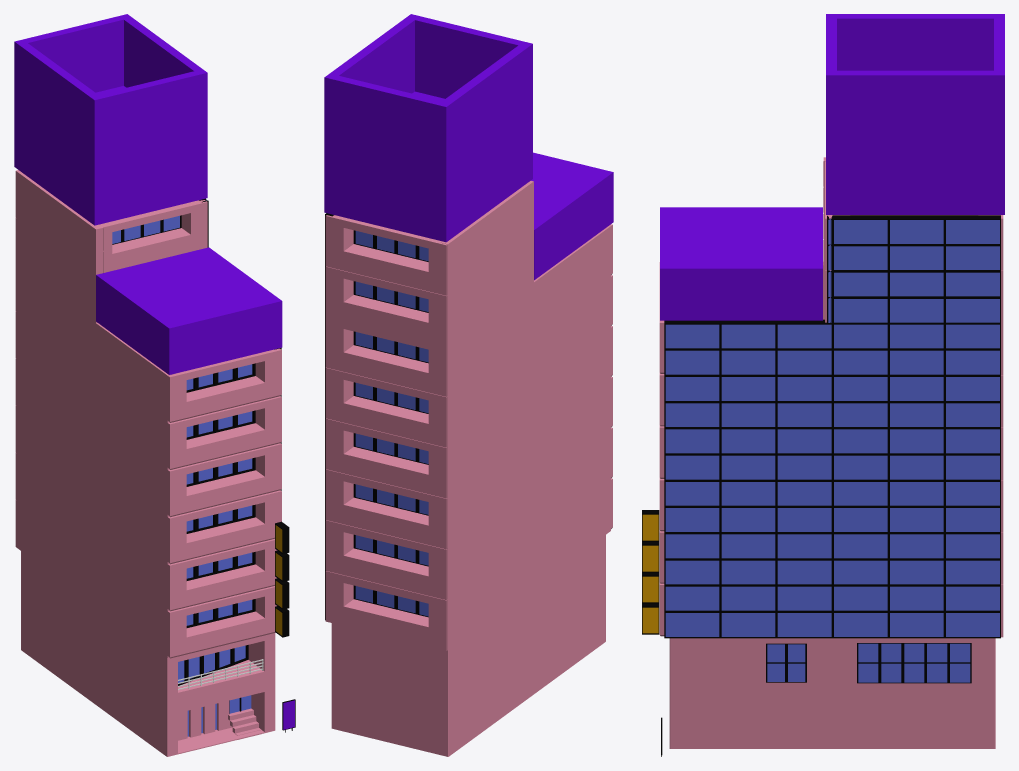
Rendered from sundai_yokonobil2.fbx.
The picture shows the model from 3 angles, left to right: view 1: azimuth 30°, elevation 25°; view 2: azimuth 150°, elevation 25°; view 3: azimuth 270°, elevation 25°; orthographic projection. The views are drawn at different scales.
Visible parts, largest first — view 1: 立方体.002, 立方体.003, 立方体, 立方体.001, 立方体.004, 立方体.006, 立方体.005, 立方体.012, 立方体.008; view 2: 立方体.002, 立方体.003, 立方体, 立方体.004, 立方体.001; view 3: 立方体.002, 立方体, 立方体.003, 立方体.004, 立方体.001, 立方体.005.
Part boxes in pixels (box(x1,y1,x2,y2)): 立方体.002: box(15, 265, 281, 658); 立方体.003: box(14, 14, 207, 225); 立方体: box(21, 551, 275, 756); 立方体.001: box(96, 247, 282, 374); 立方体.004: box(15, 170, 208, 322); 立方体.006: box(178, 695, 251, 740); 立方体.005: box(275, 521, 289, 637); 立方体.012: box(178, 659, 263, 690); 立方体.008: box(228, 708, 261, 739); 立方体.002: box(325, 224, 612, 650); 立方体.003: box(324, 14, 532, 242); 立方体: box(331, 535, 605, 756); 立方体.004: box(325, 181, 533, 346); 立方体.001: box(531, 152, 613, 280); 立方体.002: box(659, 262, 1003, 638); 立方体: box(669, 638, 995, 748); 立方体.003: box(826, 14, 1004, 214); 立方体.004: box(823, 157, 1003, 323); 立方体.001: box(660, 207, 822, 320); 立方体.005: box(642, 510, 659, 634).
Size of the model in its own units: 924 by 4243 by 2056.
